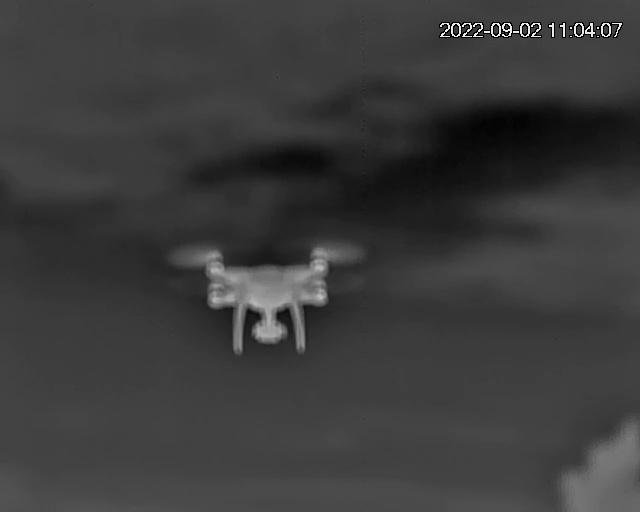DJI-Phantom: (170, 244, 370, 357)
